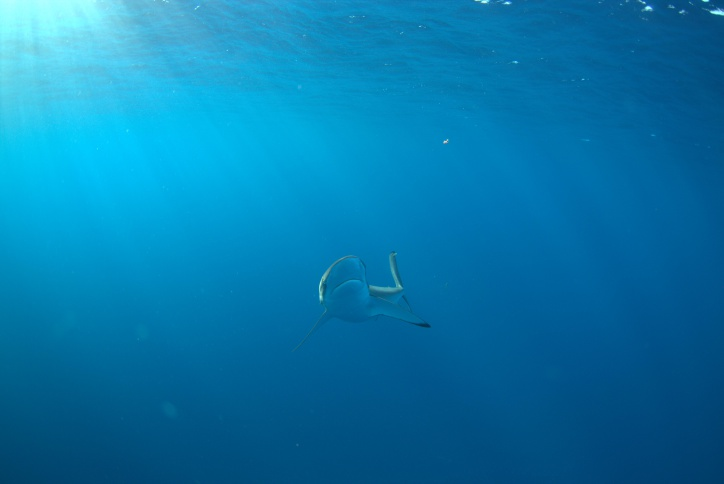Sedoso: (274, 245, 447, 348)
